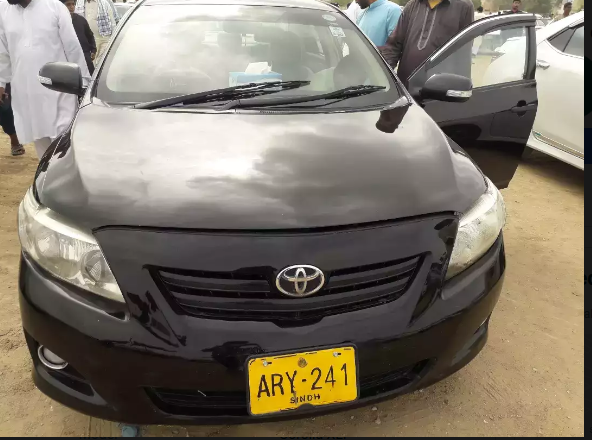license plate: (252, 359, 355, 402)
